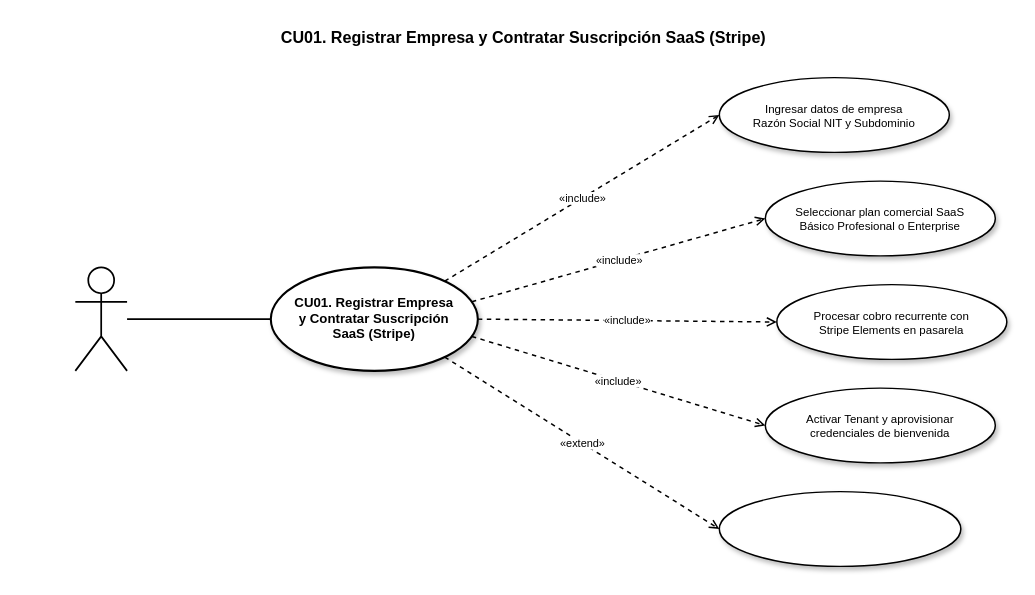
Some shapes in this 1035 by 595 pixel diagram are drawn without their labels. Each missing label, with the centre of its shape:
Administrador de Empresa: [100,318]
Rechazar registro por tarjeta denegada o fondos insuficientes: [840,530]
